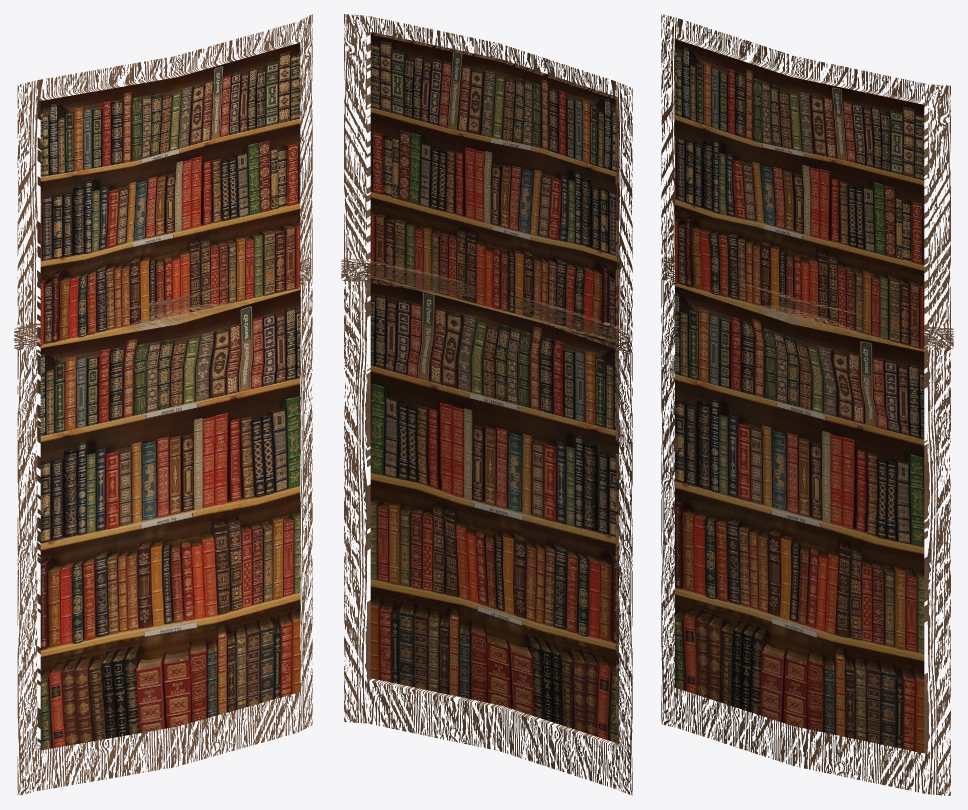
Rendered from parete2.fbx.
3 renders of one model, left to right at view 1: azimuth 30°, elevation 25°; view 2: azimuth 150°, elevation 25°; view 3: azimuth 330°, elevation 25°, orthographic.
Visible parts, largest first — view 1: Circle.001; view 2: Circle.001; view 3: Circle.001.
Boxes of the visible parts, <box> form: Circle.001: <box>14,14,312,795</box>; Circle.001: <box>341,14,632,795</box>; Circle.001: <box>661,14,953,795</box>.
Bounding box in the file's own units: 536 × 1246 × 55.13.
